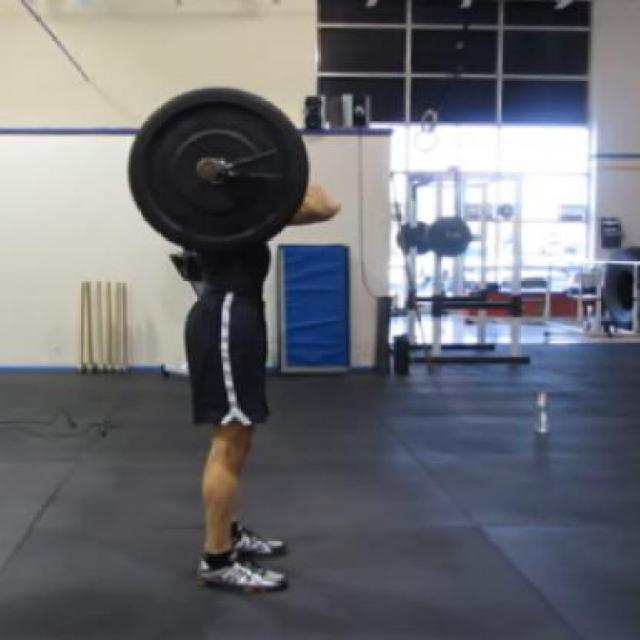Barbell: (192, 154, 226, 182)
